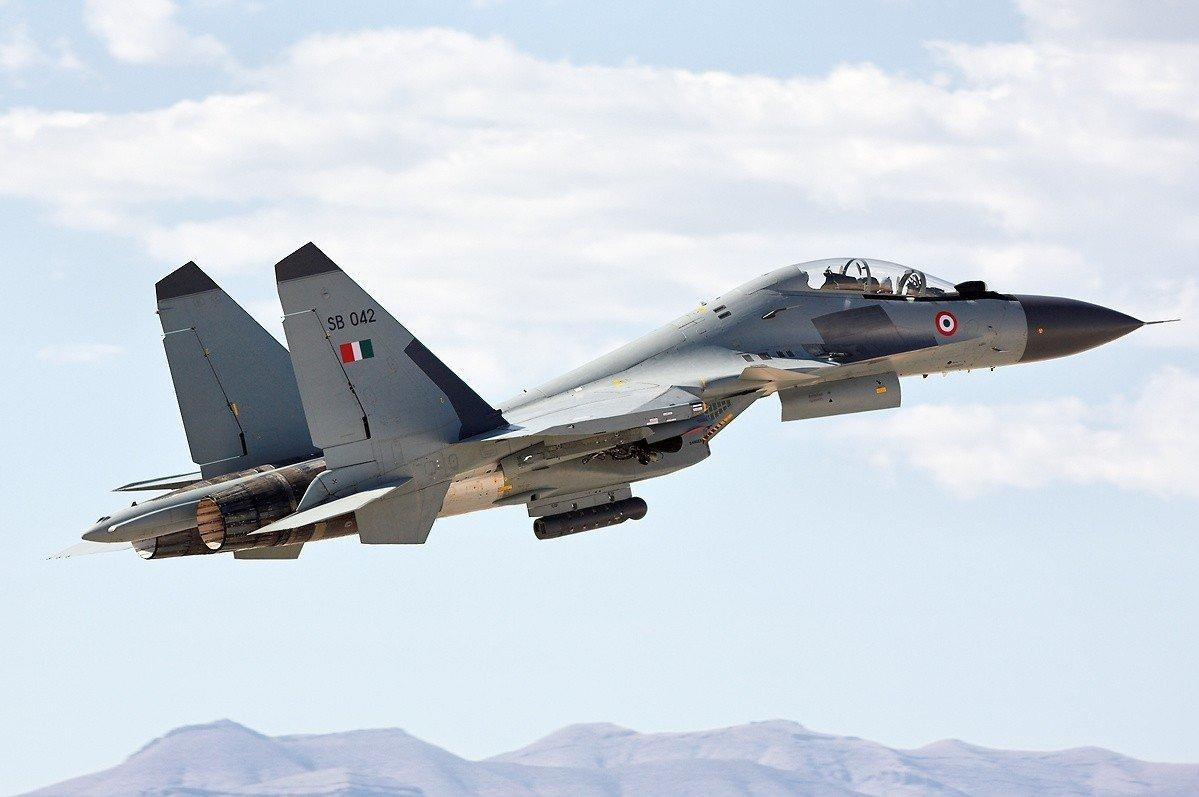aircraft: (88, 237, 1169, 558)
